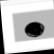correct: (21, 18, 49, 41)
